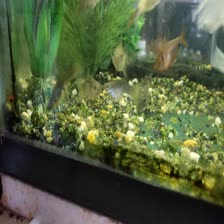Guppy: (39, 56, 83, 116), (108, 33, 135, 73), (100, 77, 146, 100), (82, 69, 100, 101)
Transparente: (150, 29, 187, 68)
